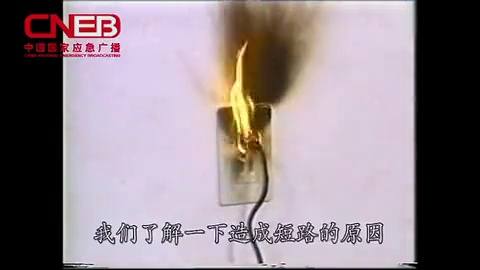fire: (226, 36, 265, 154)
